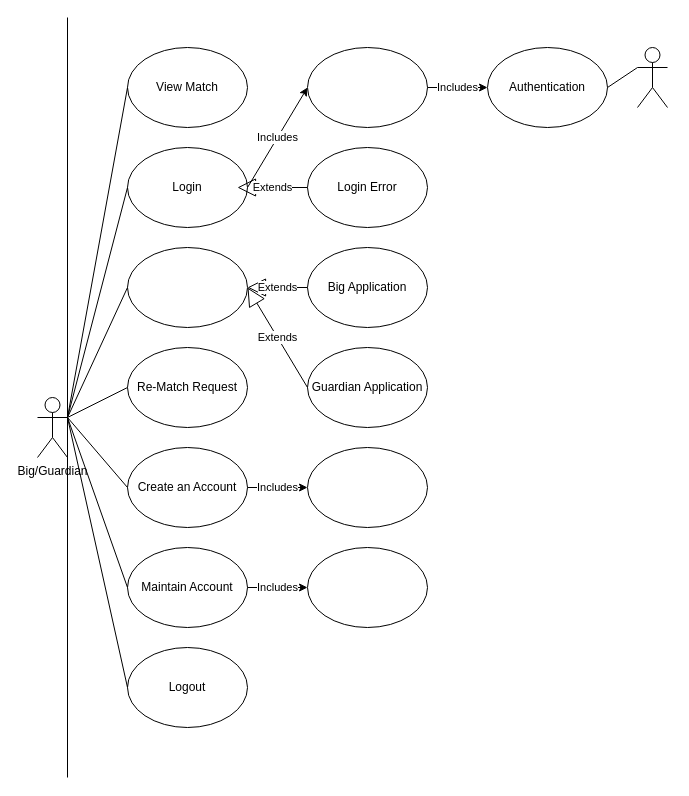
This 689x796 diagram has some shape labels left out. Here are the shapes that lost their labels. From the top down, the centre of each, then its label:
At (x=367, y=87): "Find Account".
At (x=652, y=77): "System".
At (x=187, y=287): "Submit Application".
At (x=367, y=487): "Provide Background Information".
At (x=367, y=587): "Verify Account".
